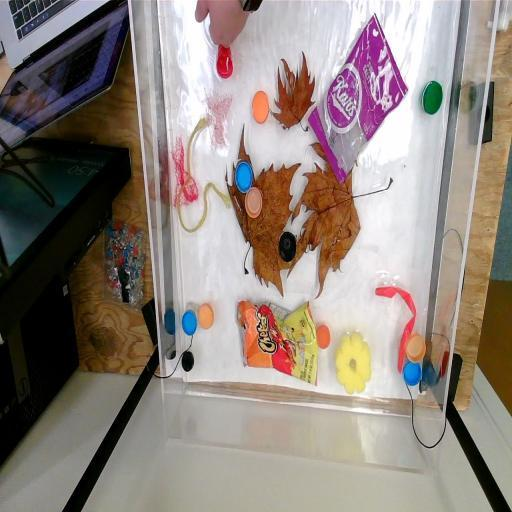Bottle Cap: (422, 77, 442, 116), (251, 90, 271, 127), (244, 186, 265, 220), (197, 300, 216, 336), (278, 228, 296, 266), (402, 357, 424, 388), (233, 156, 252, 190), (408, 332, 428, 364), (180, 306, 198, 340), (180, 349, 197, 374), (318, 322, 332, 352)
Cone Cap: (216, 44, 236, 80)
Leaf: (294, 158, 394, 297), (229, 126, 303, 299), (270, 50, 316, 138)
Netting: (169, 137, 201, 210), (204, 91, 234, 151)
Plastic Bag: (310, 10, 406, 184), (236, 298, 320, 389)
Plastic Strand: (177, 113, 232, 237), (373, 276, 415, 370)
Sponge: (335, 330, 374, 398)
